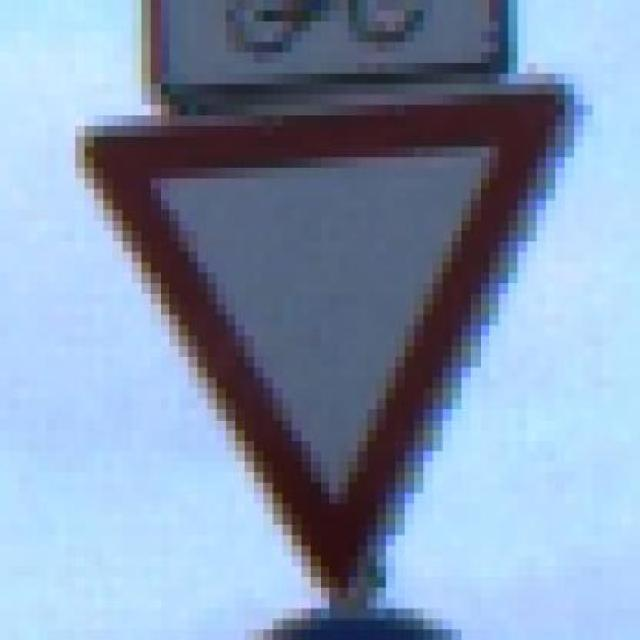Give Way: (56, 73, 584, 619)
